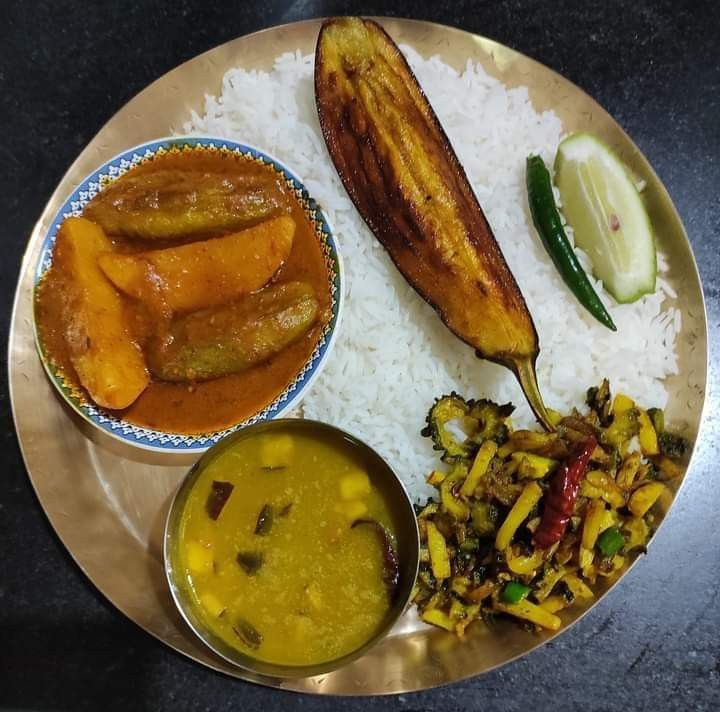bhat: (211, 53, 673, 489)
dal: (170, 437, 402, 655)
sabji: (50, 169, 311, 425), (426, 406, 685, 630)
